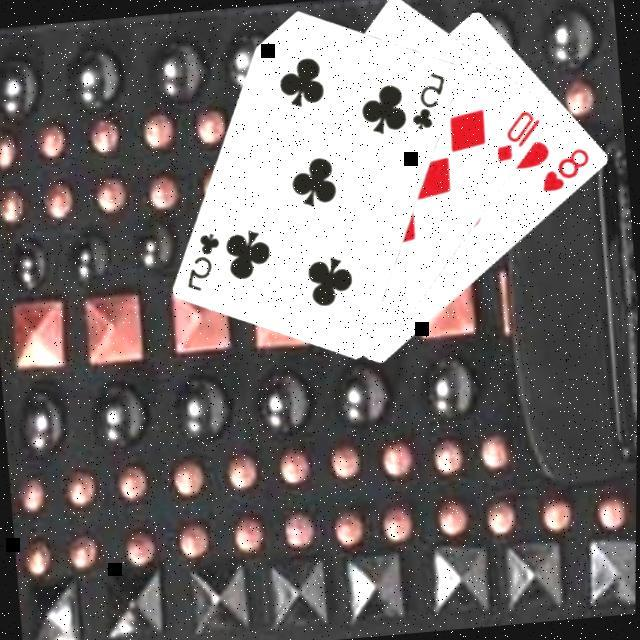10D: (488, 104, 546, 162)
5C: (404, 66, 452, 130), (179, 227, 226, 292)
8H: (535, 140, 595, 193)
